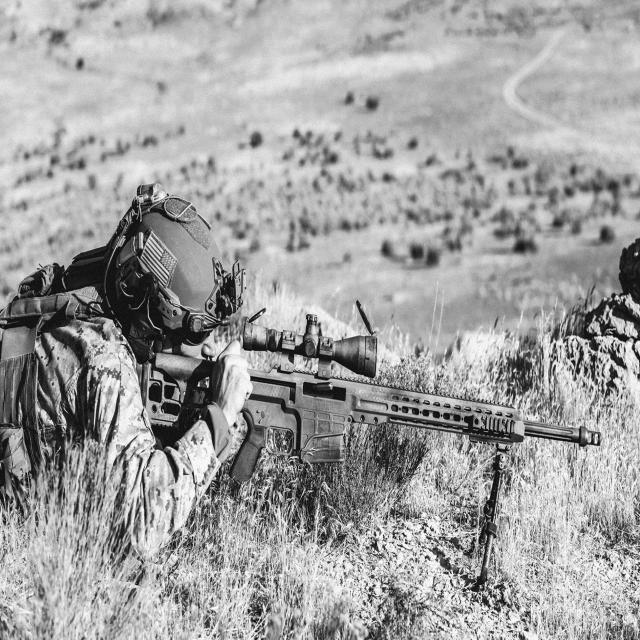Weapon: (129, 293, 608, 587)
